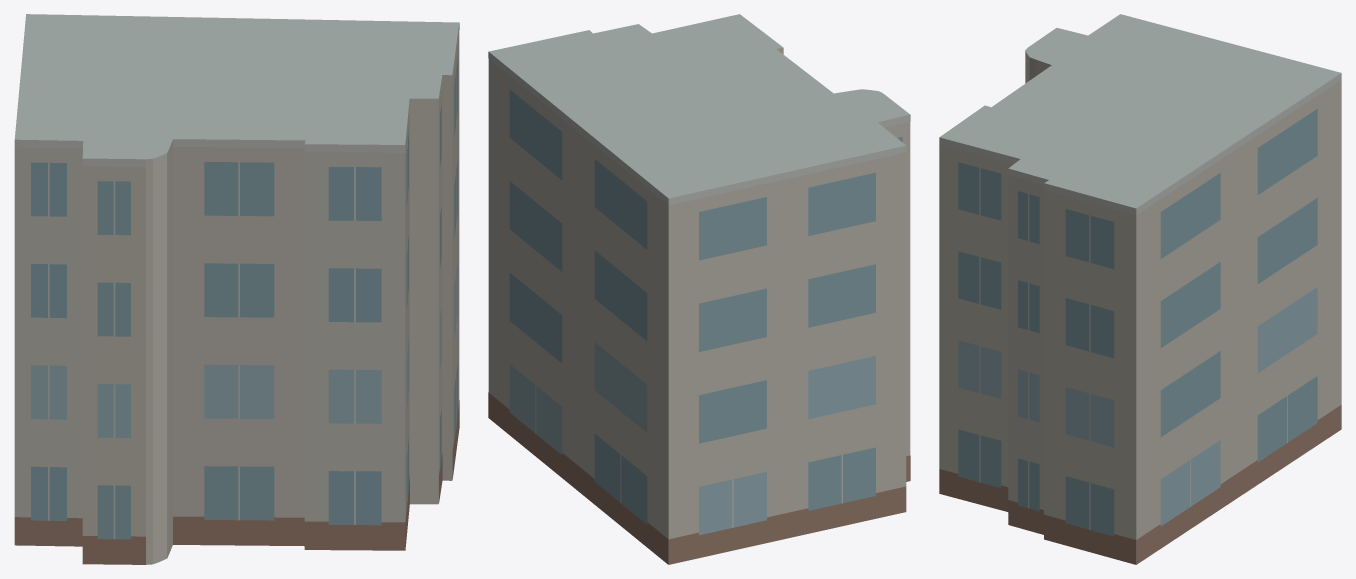
File: survey-upis-32811867.glb
3 views of the same model, side by side, from view 1: azimuth 30°, elevation 25°; view 2: azimuth 150°, elevation 25°; view 3: azimuth 270°, elevation 25° (orthographic). The views are drawn at different scales.
Parts seen in each view (by area): view 1: survey-upis-32811867.tmp; view 2: survey-upis-32811867.tmp; view 3: survey-upis-32811867.tmp.
Part boxes in pixels (x1,y1,x2,y2): survey-upis-32811867.tmp: (14,14,459,564); survey-upis-32811867.tmp: (488,14,910,564); survey-upis-32811867.tmp: (939,14,1341,564).
Size of the model in its own units: 15.16 by 12.95 by 13.26.
